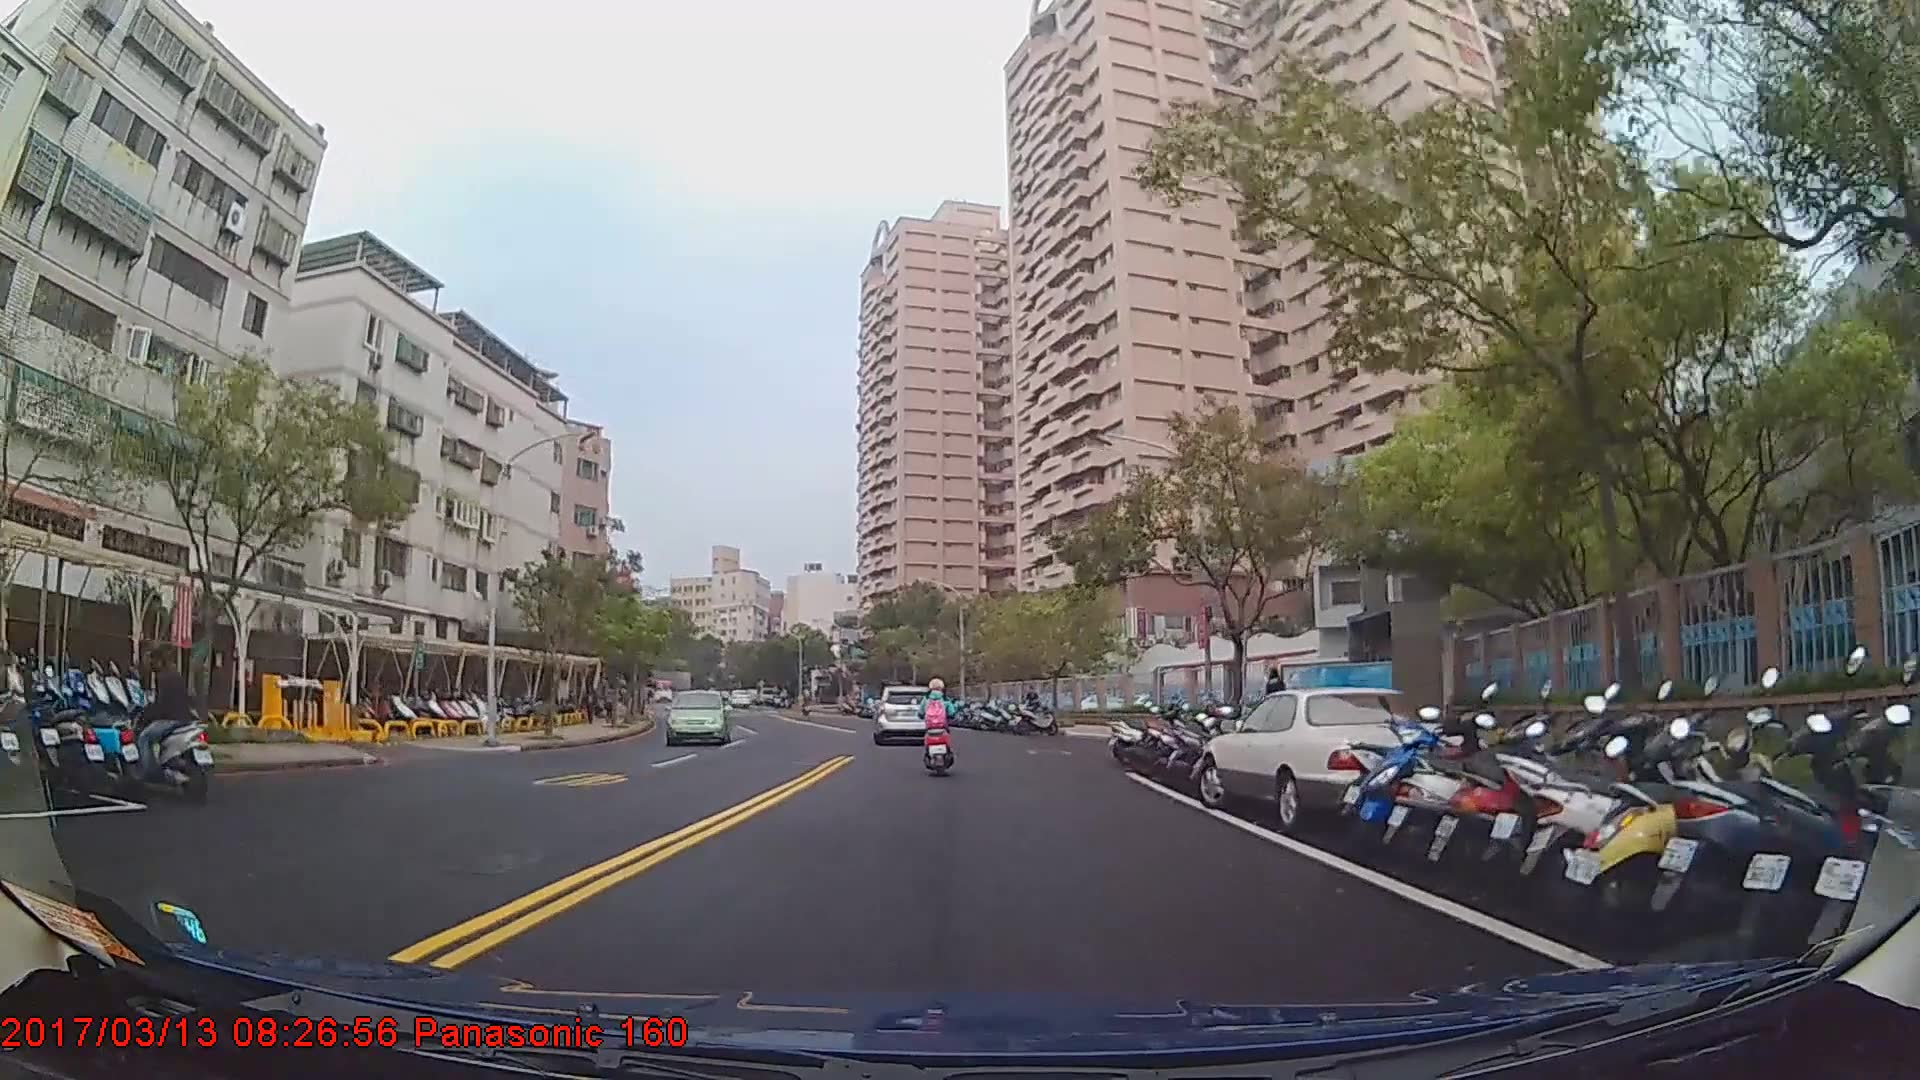pedestrian: (1263, 665, 1291, 743), (1023, 686, 1043, 727)
rider: (101, 643, 216, 801), (917, 676, 956, 777)
vehicle: (1195, 684, 1490, 826), (662, 687, 729, 746), (871, 682, 935, 742)
